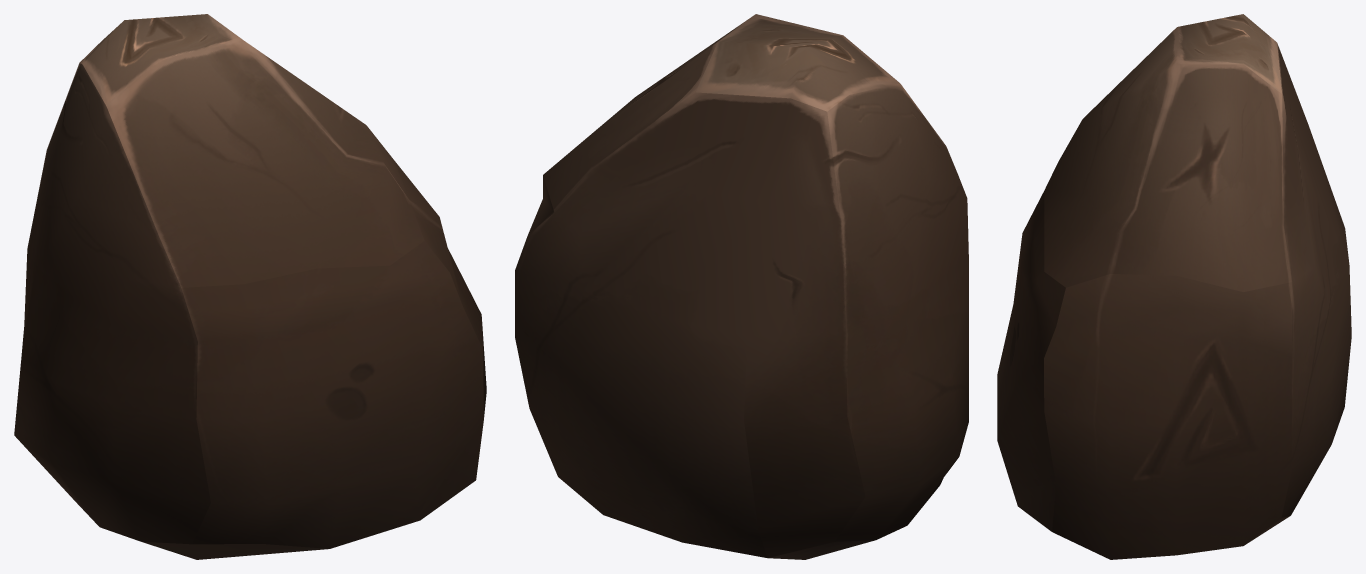
File: rock_2.fbx
3 renders of one model, left to right at view 1: azimuth 30°, elevation 25°; view 2: azimuth 150°, elevation 25°; view 3: azimuth 270°, elevation 25°, orthographic. The views are drawn at different scales.
Visible parts, largest first — view 1: rock_2; view 2: rock_2; view 3: rock_2.
Boxes of the visible parts, left/top/right/bottom form: rock_2: left=14, top=14, right=486, bottom=559; rock_2: left=515, top=14, right=968, bottom=559; rock_2: left=997, top=14, right=1351, bottom=559.
Bounding box in the file's own units: 2.58 × 3.09 × 2.16.
